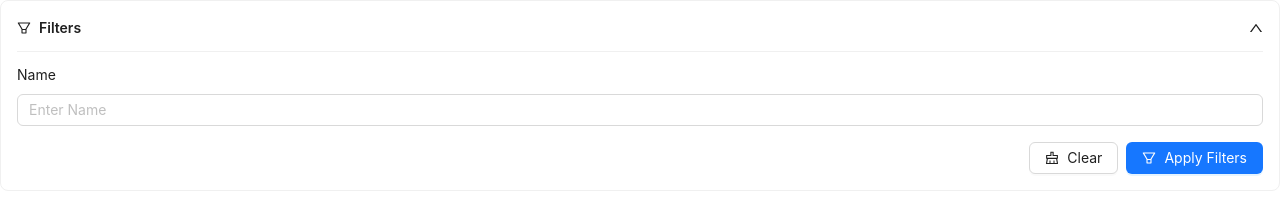
Test case: FilterPanel Component › Active Filters Count › shows active filters count badge
Type "test" into the field with placeholder "Enter Name". click: point(640, 110)
box: left=17, top=94, right=1263, bottom=126
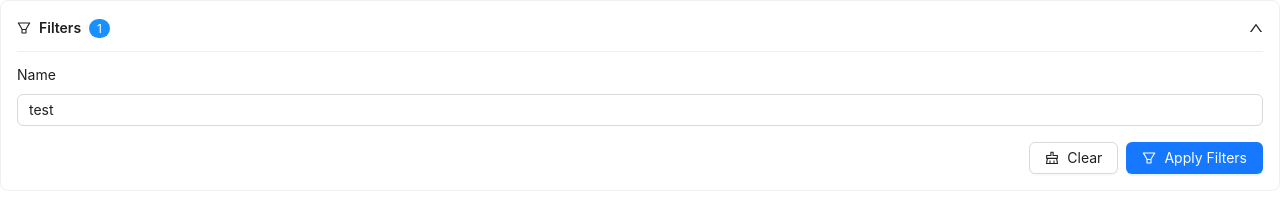
expect the text "1" is shown: met, box left=89, top=19, right=110, bottom=38
